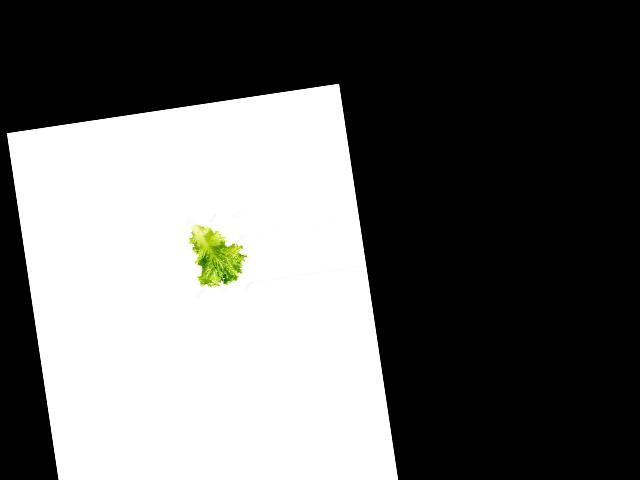lettuce: (189, 217, 249, 289)
